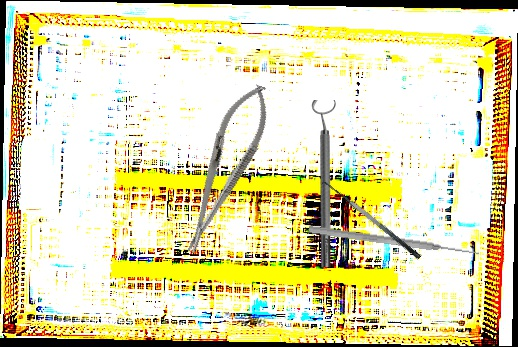Fixation Ring: (311, 100, 338, 267)
Needle Holder: (169, 76, 281, 261)
Pusher: (308, 224, 481, 259)
Spatula Surgical: (317, 176, 422, 268)
